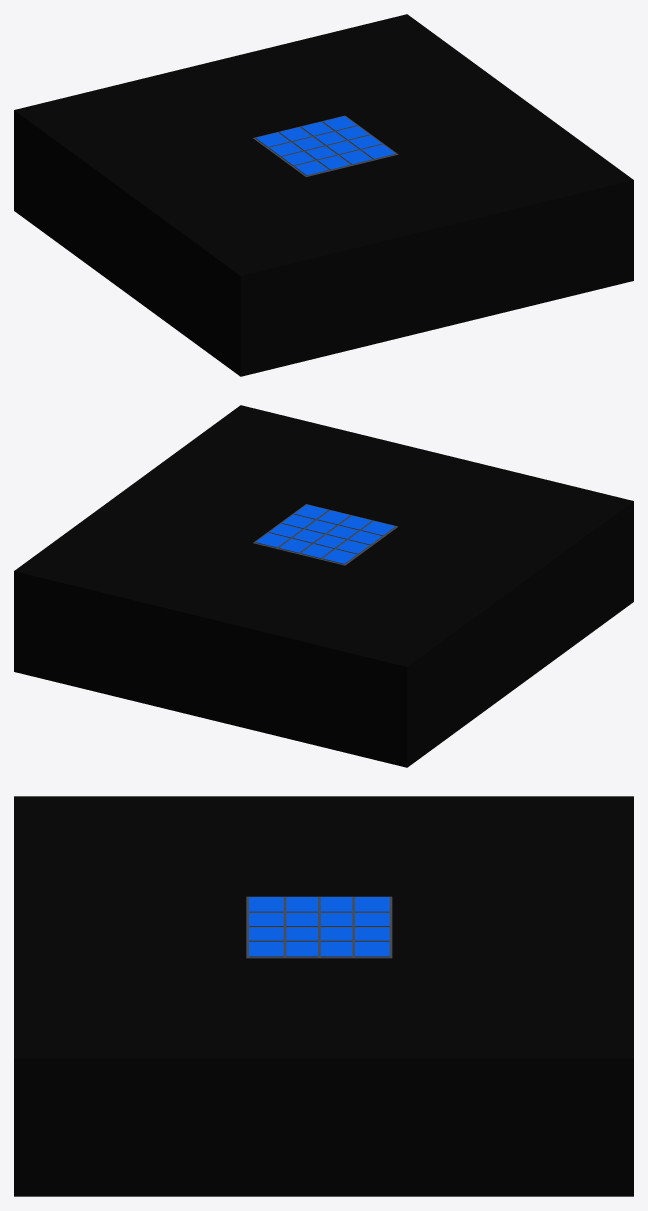
The model's file is Building 2.fbx.
The picture shows the model from 3 angles, top to bottom: view 1: azimuth 30°, elevation 25°; view 2: azimuth 150°, elevation 25°; view 3: azimuth 270°, elevation 25°; orthographic projection. The views are drawn at different scales.
Visible parts, largest first — view 1: Layer, Window; view 2: Layer, Window; view 3: Layer, Window.
Boxes of the visible parts, x1=… form: Layer: x1=14, y1=14, x2=633, y2=376; Window: x1=253, y1=115, x2=398, y2=176; Layer: x1=14, y1=405, x2=633, y2=767; Window: x1=253, y1=504, x2=398, y2=565; Layer: x1=14, y1=796, x2=633, y2=1196; Window: x1=246, y1=896, x2=392, y2=958.
Size of the model in its own units: 2047 by 504 by 2044.
